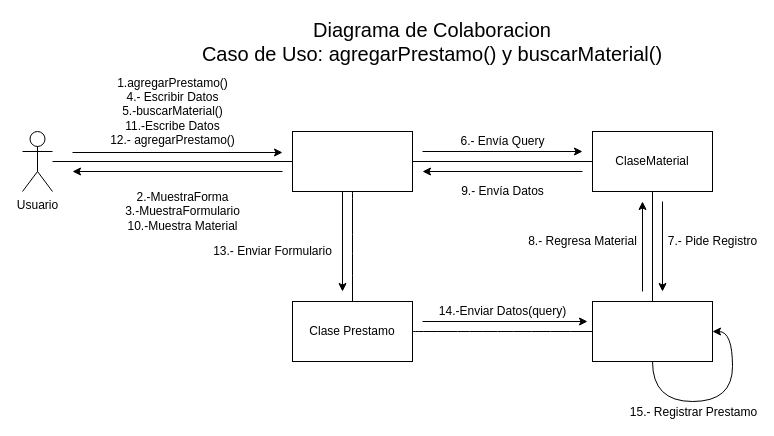
Some shapes in this 774 by 436 pixel diagram are drawn without their labels. The shapes that lost their labels are listed below. From the top down, each one's centre as x and y in pixels, then its label:
the point at 352,161: mostrarUsuario Form()
the point at 652,331: BaseDatos
